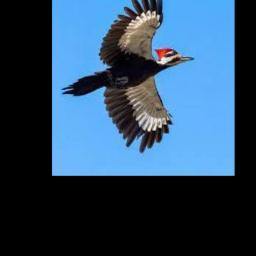Woodpecker: (61, 0, 195, 153)
